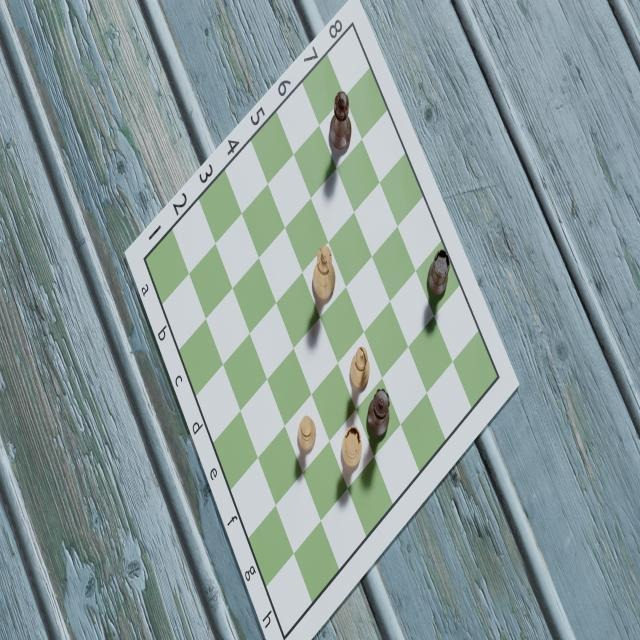black-king: (328, 89, 354, 153)
black-queen: (365, 386, 391, 441)
black-rook: (426, 246, 452, 301)
white-bishop: (349, 344, 371, 391)
white-king: (312, 241, 336, 303)
white-pawn: (296, 413, 318, 453)
white-rook: (340, 423, 363, 471)
